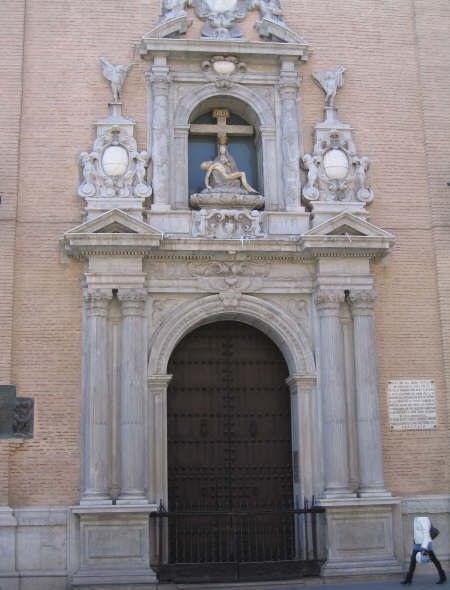arco-medio-punto: (155, 301, 305, 403), (180, 87, 268, 143)
fronton: (62, 209, 166, 252), (295, 211, 398, 250)
fronton-partido: (138, 13, 311, 59)
